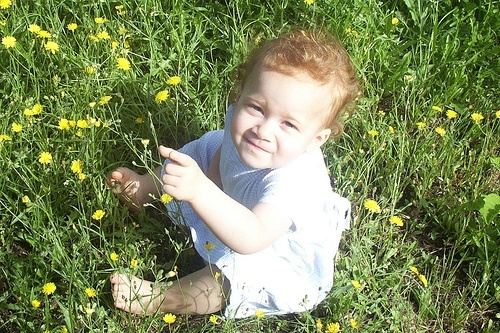head: (230, 25, 354, 171)
person: (134, 20, 356, 329)
